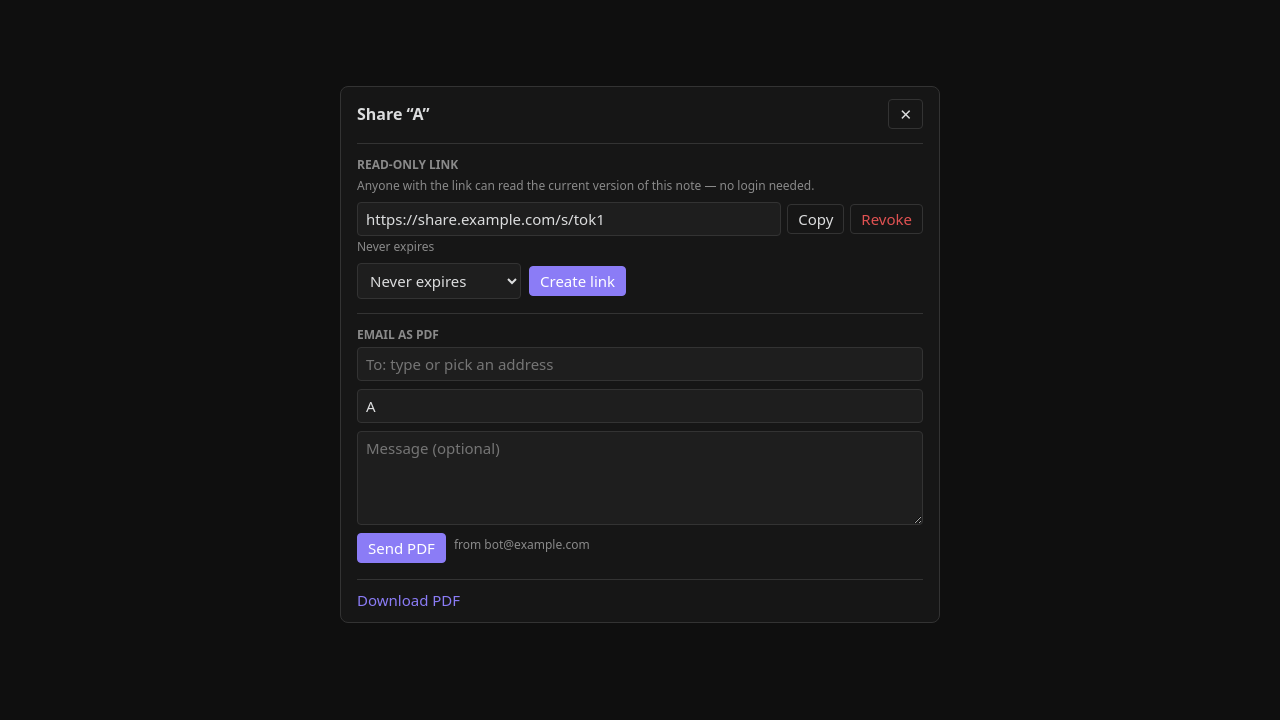
ShareDialog email › refuses to send while an address is invalid
Expected: the text "from bot@example.com" is shown, [454, 536, 590, 553]
Type "andreas@fcg, ok@x.fi" into the dropdown labelled "To".
click(640, 364); type("andreas@fcg, ok@x.fi")  # box [364, 352, 916, 376]
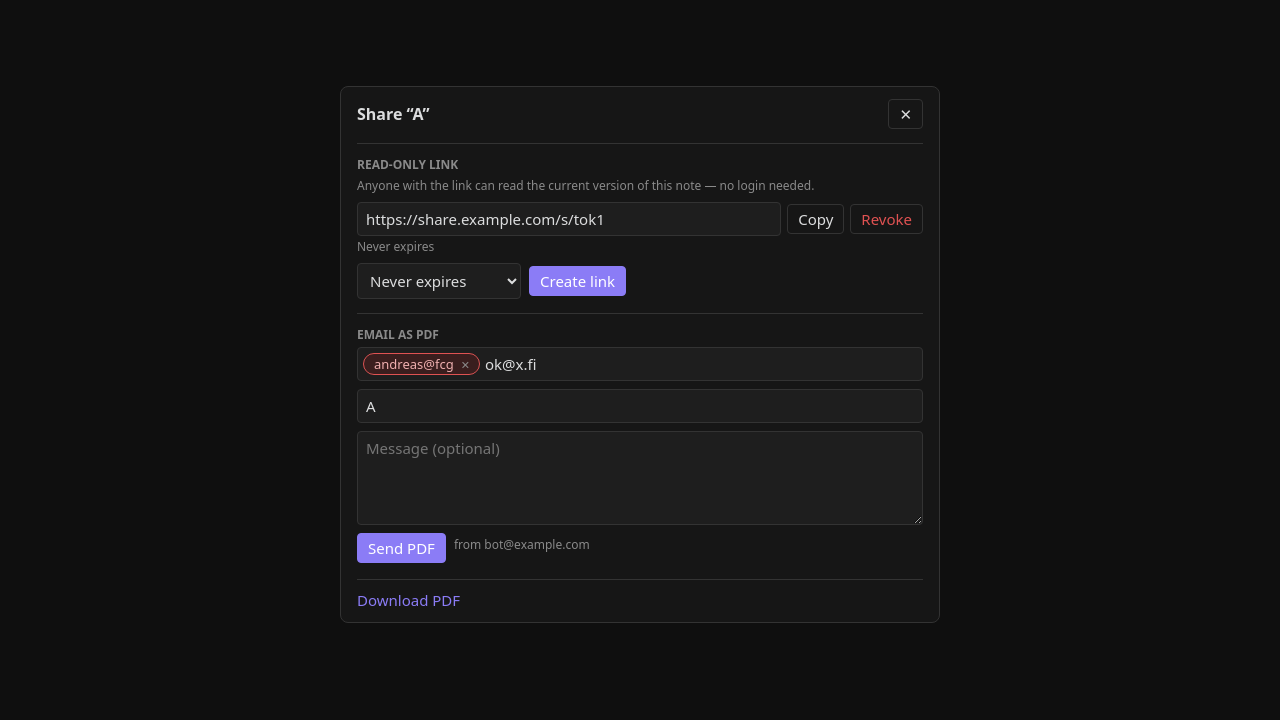
Click the button "Send PDF".
click(401, 548)  # box [357, 533, 446, 563]
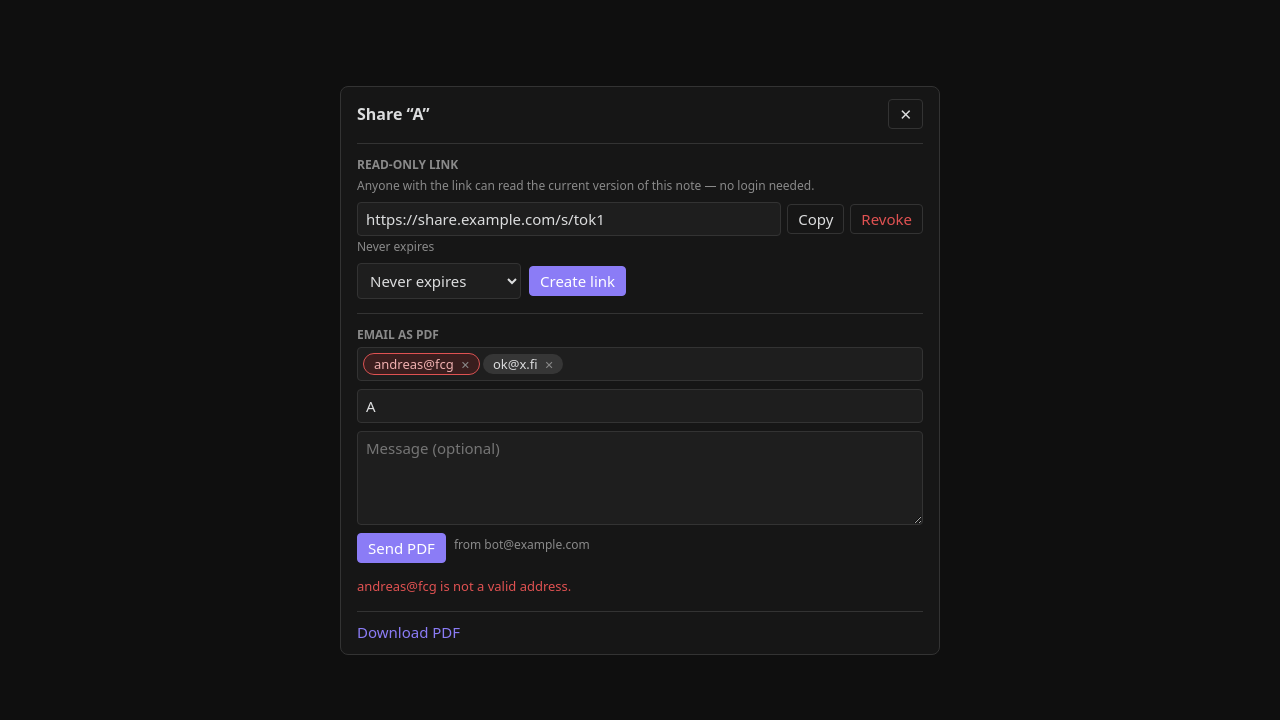
Expected: the text "andreas@fcg is not a valid address." is shown, [357, 577, 571, 595]
